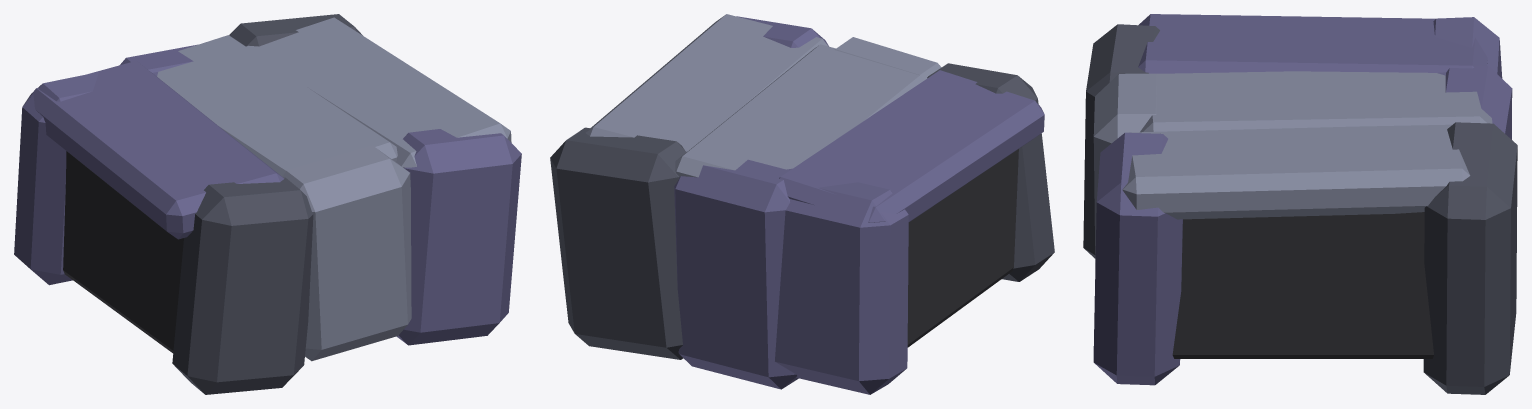
File: mine-low.glb
3 renders of one model, left to right at view 1: azimuth 30°, elevation 25°; view 2: azimuth 150°, elevation 25°; view 3: azimuth 270°, elevation 25°, orthographic. The views are drawn at different scales.
Visible parts, largest first — view 1: mine-low; view 2: mine-low; view 3: mine-low.
Part boxes in pixels (box(x1,y1,x2,y2)): mine-low: box(14, 14, 521, 394); mine-low: box(550, 14, 1054, 394); mine-low: box(1083, 14, 1517, 394).
Bounding box in the file's own units: 1.1 × 0.6551 × 1.11.
Materials: 1 (1 with a texture image).
